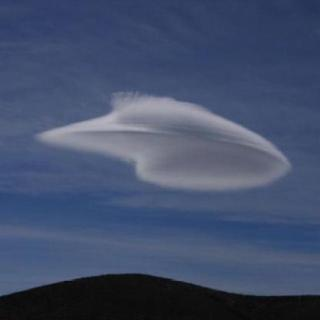Altocumulus: (39, 92, 297, 196)
